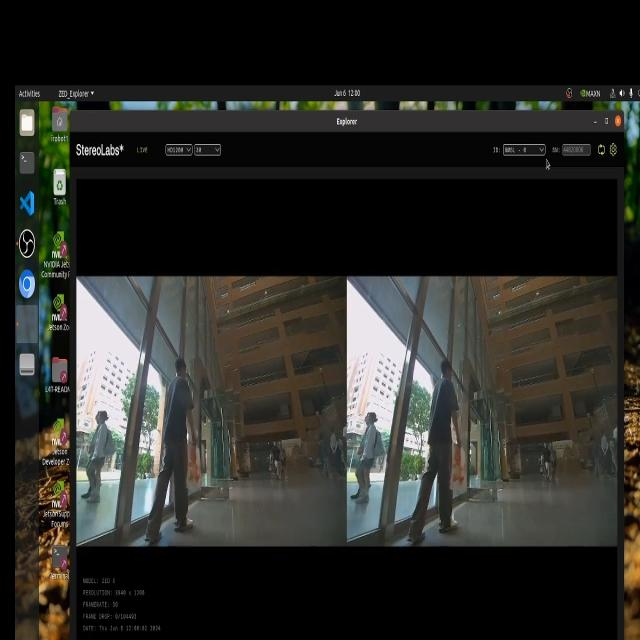red: (182, 446, 204, 484), (448, 449, 464, 477)
